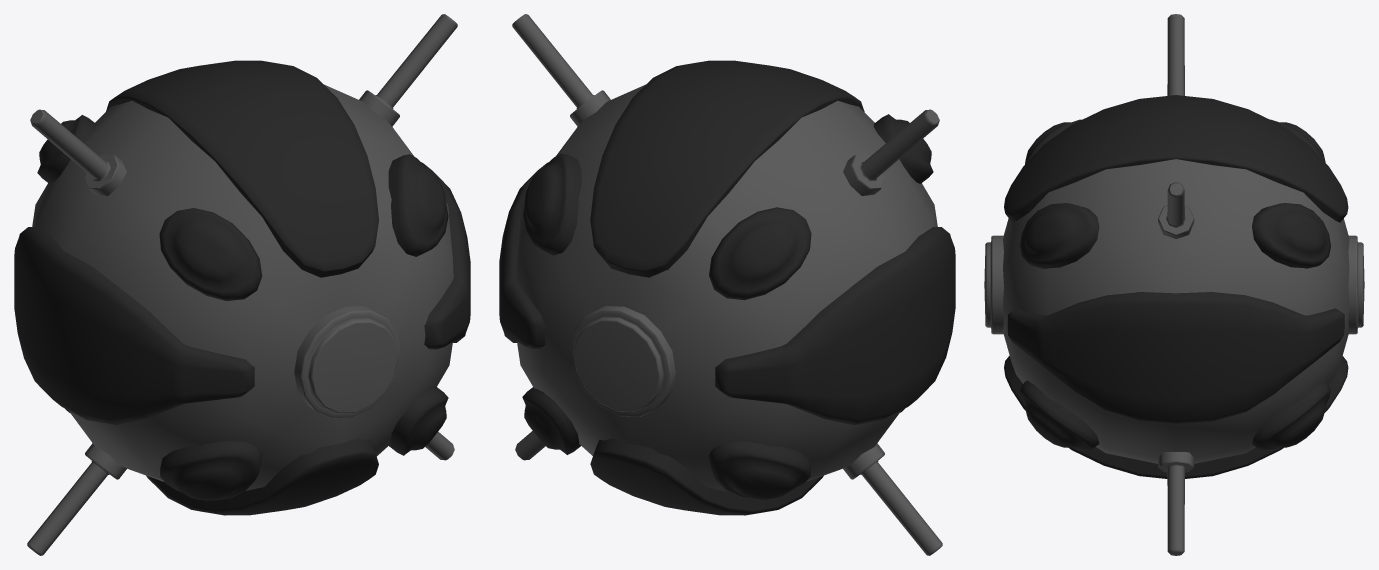
File: _objects_space_04.fbx
The picture shows the model from 3 angles, left to right: view 1: azimuth 30°, elevation 25°; view 2: azimuth 150°, elevation 25°; view 3: azimuth 270°, elevation 25°; orthographic projection. The views are drawn at different scales.
Visible parts, largest first — view 1: Оbjects_space_04; view 2: Оbjects_space_04; view 3: Оbjects_space_04.
Boxes of the visible parts, <box> form: Оbjects_space_04: <box>14,14,470,555</box>; Оbjects_space_04: <box>499,14,955,555</box>; Оbjects_space_04: <box>984,14,1364,555</box>.
Bounding box in the file's own units: 95.29 × 95.29 × 87.19.
Materials: 1 (1 with a texture image).
